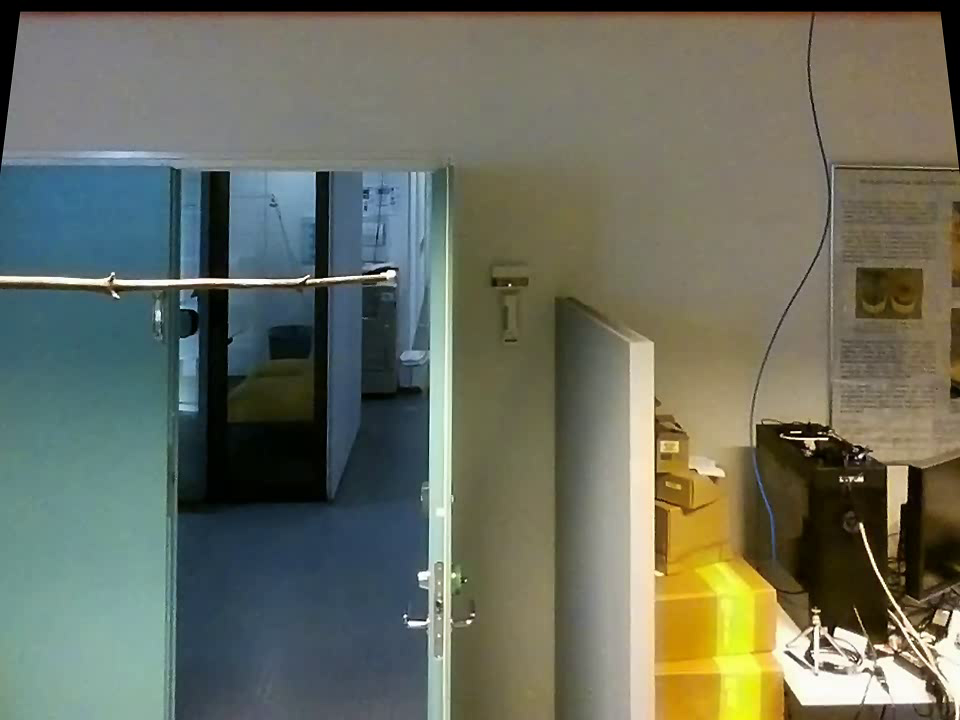branch: (3, 262, 378, 307)
